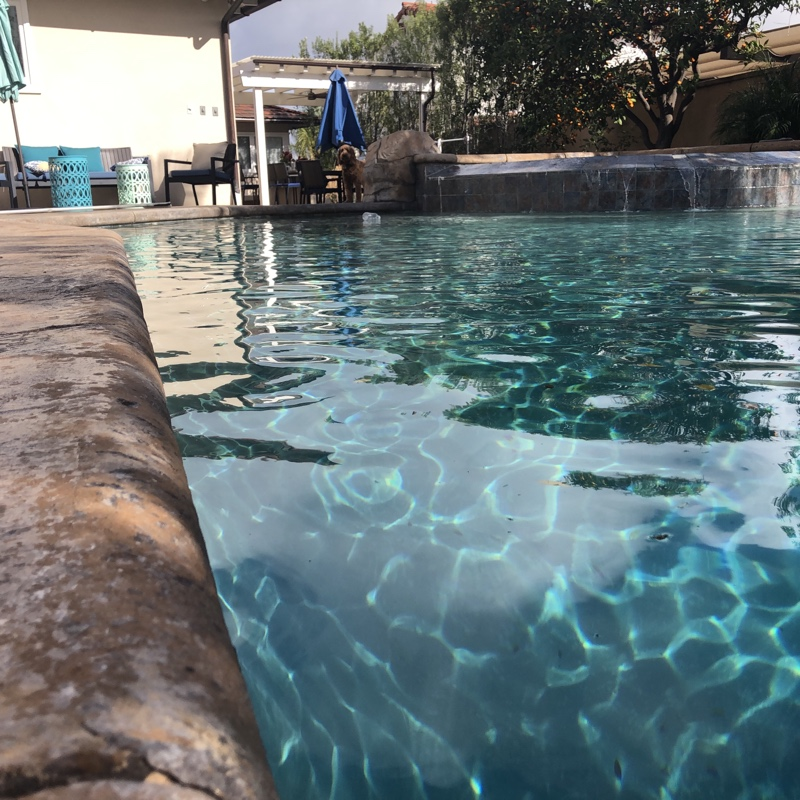Plastic Bottle: (358, 209, 381, 230)
